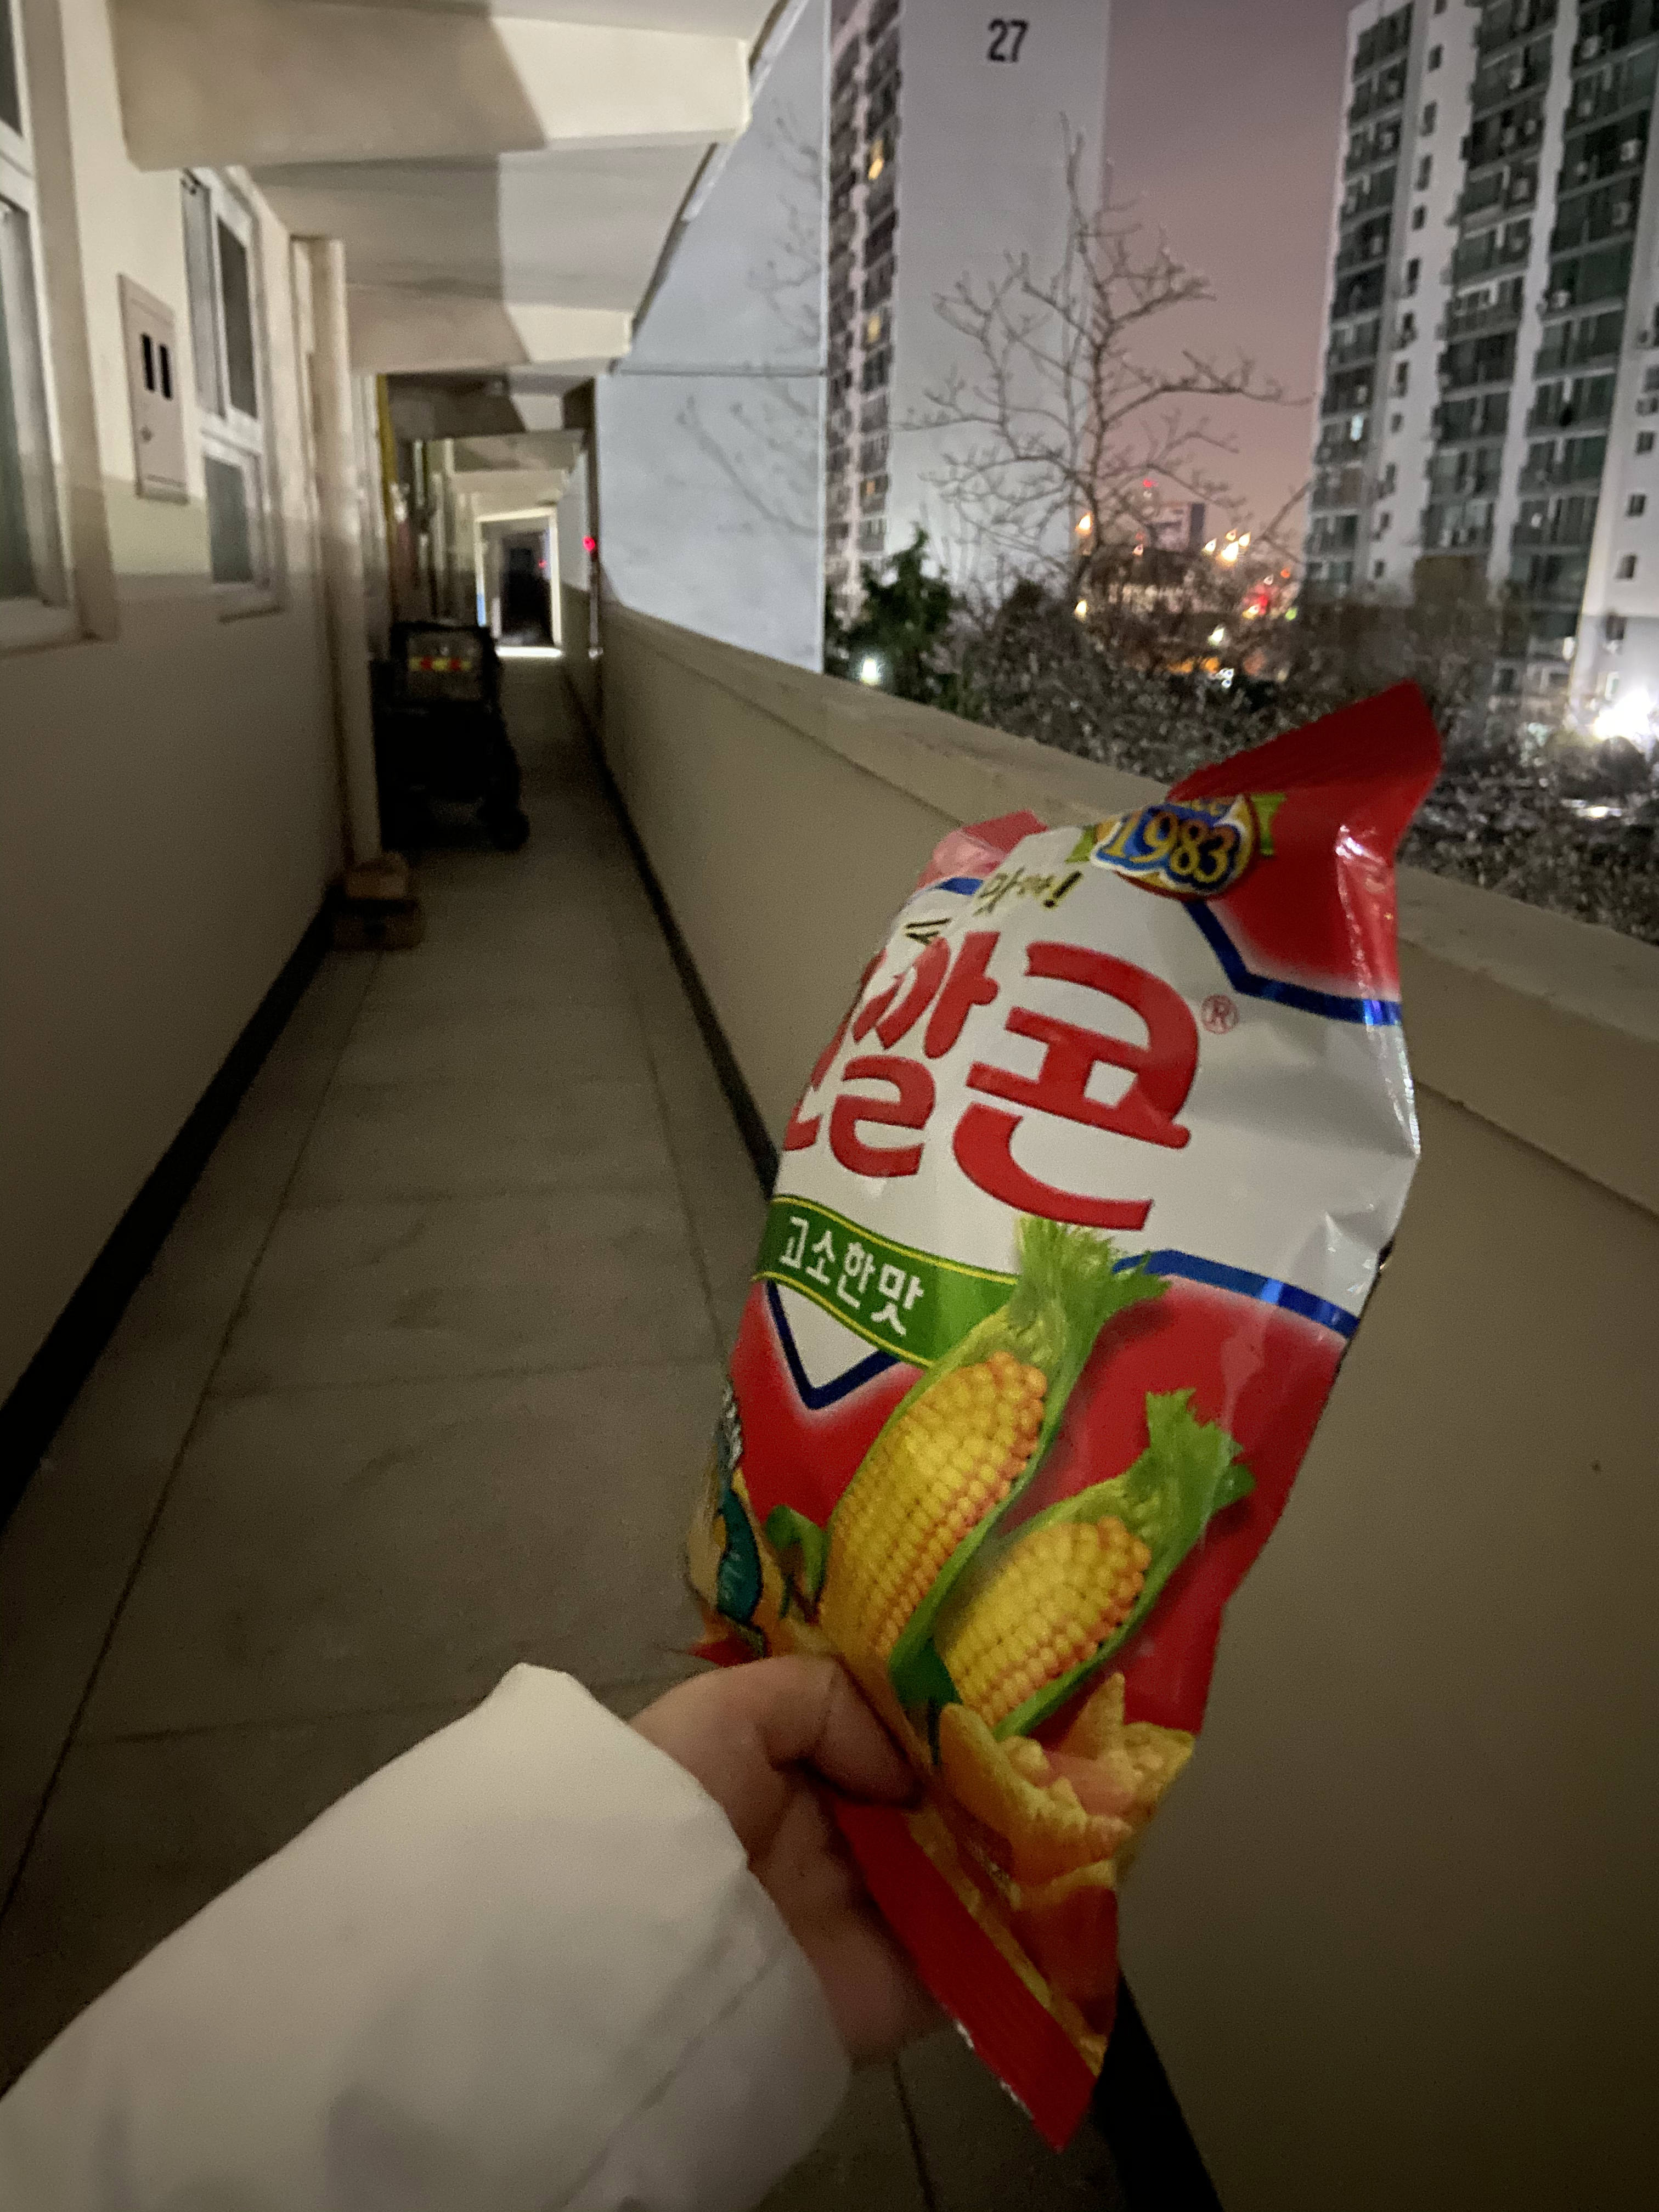ggoggalcon: (643, 653, 1459, 2172)
